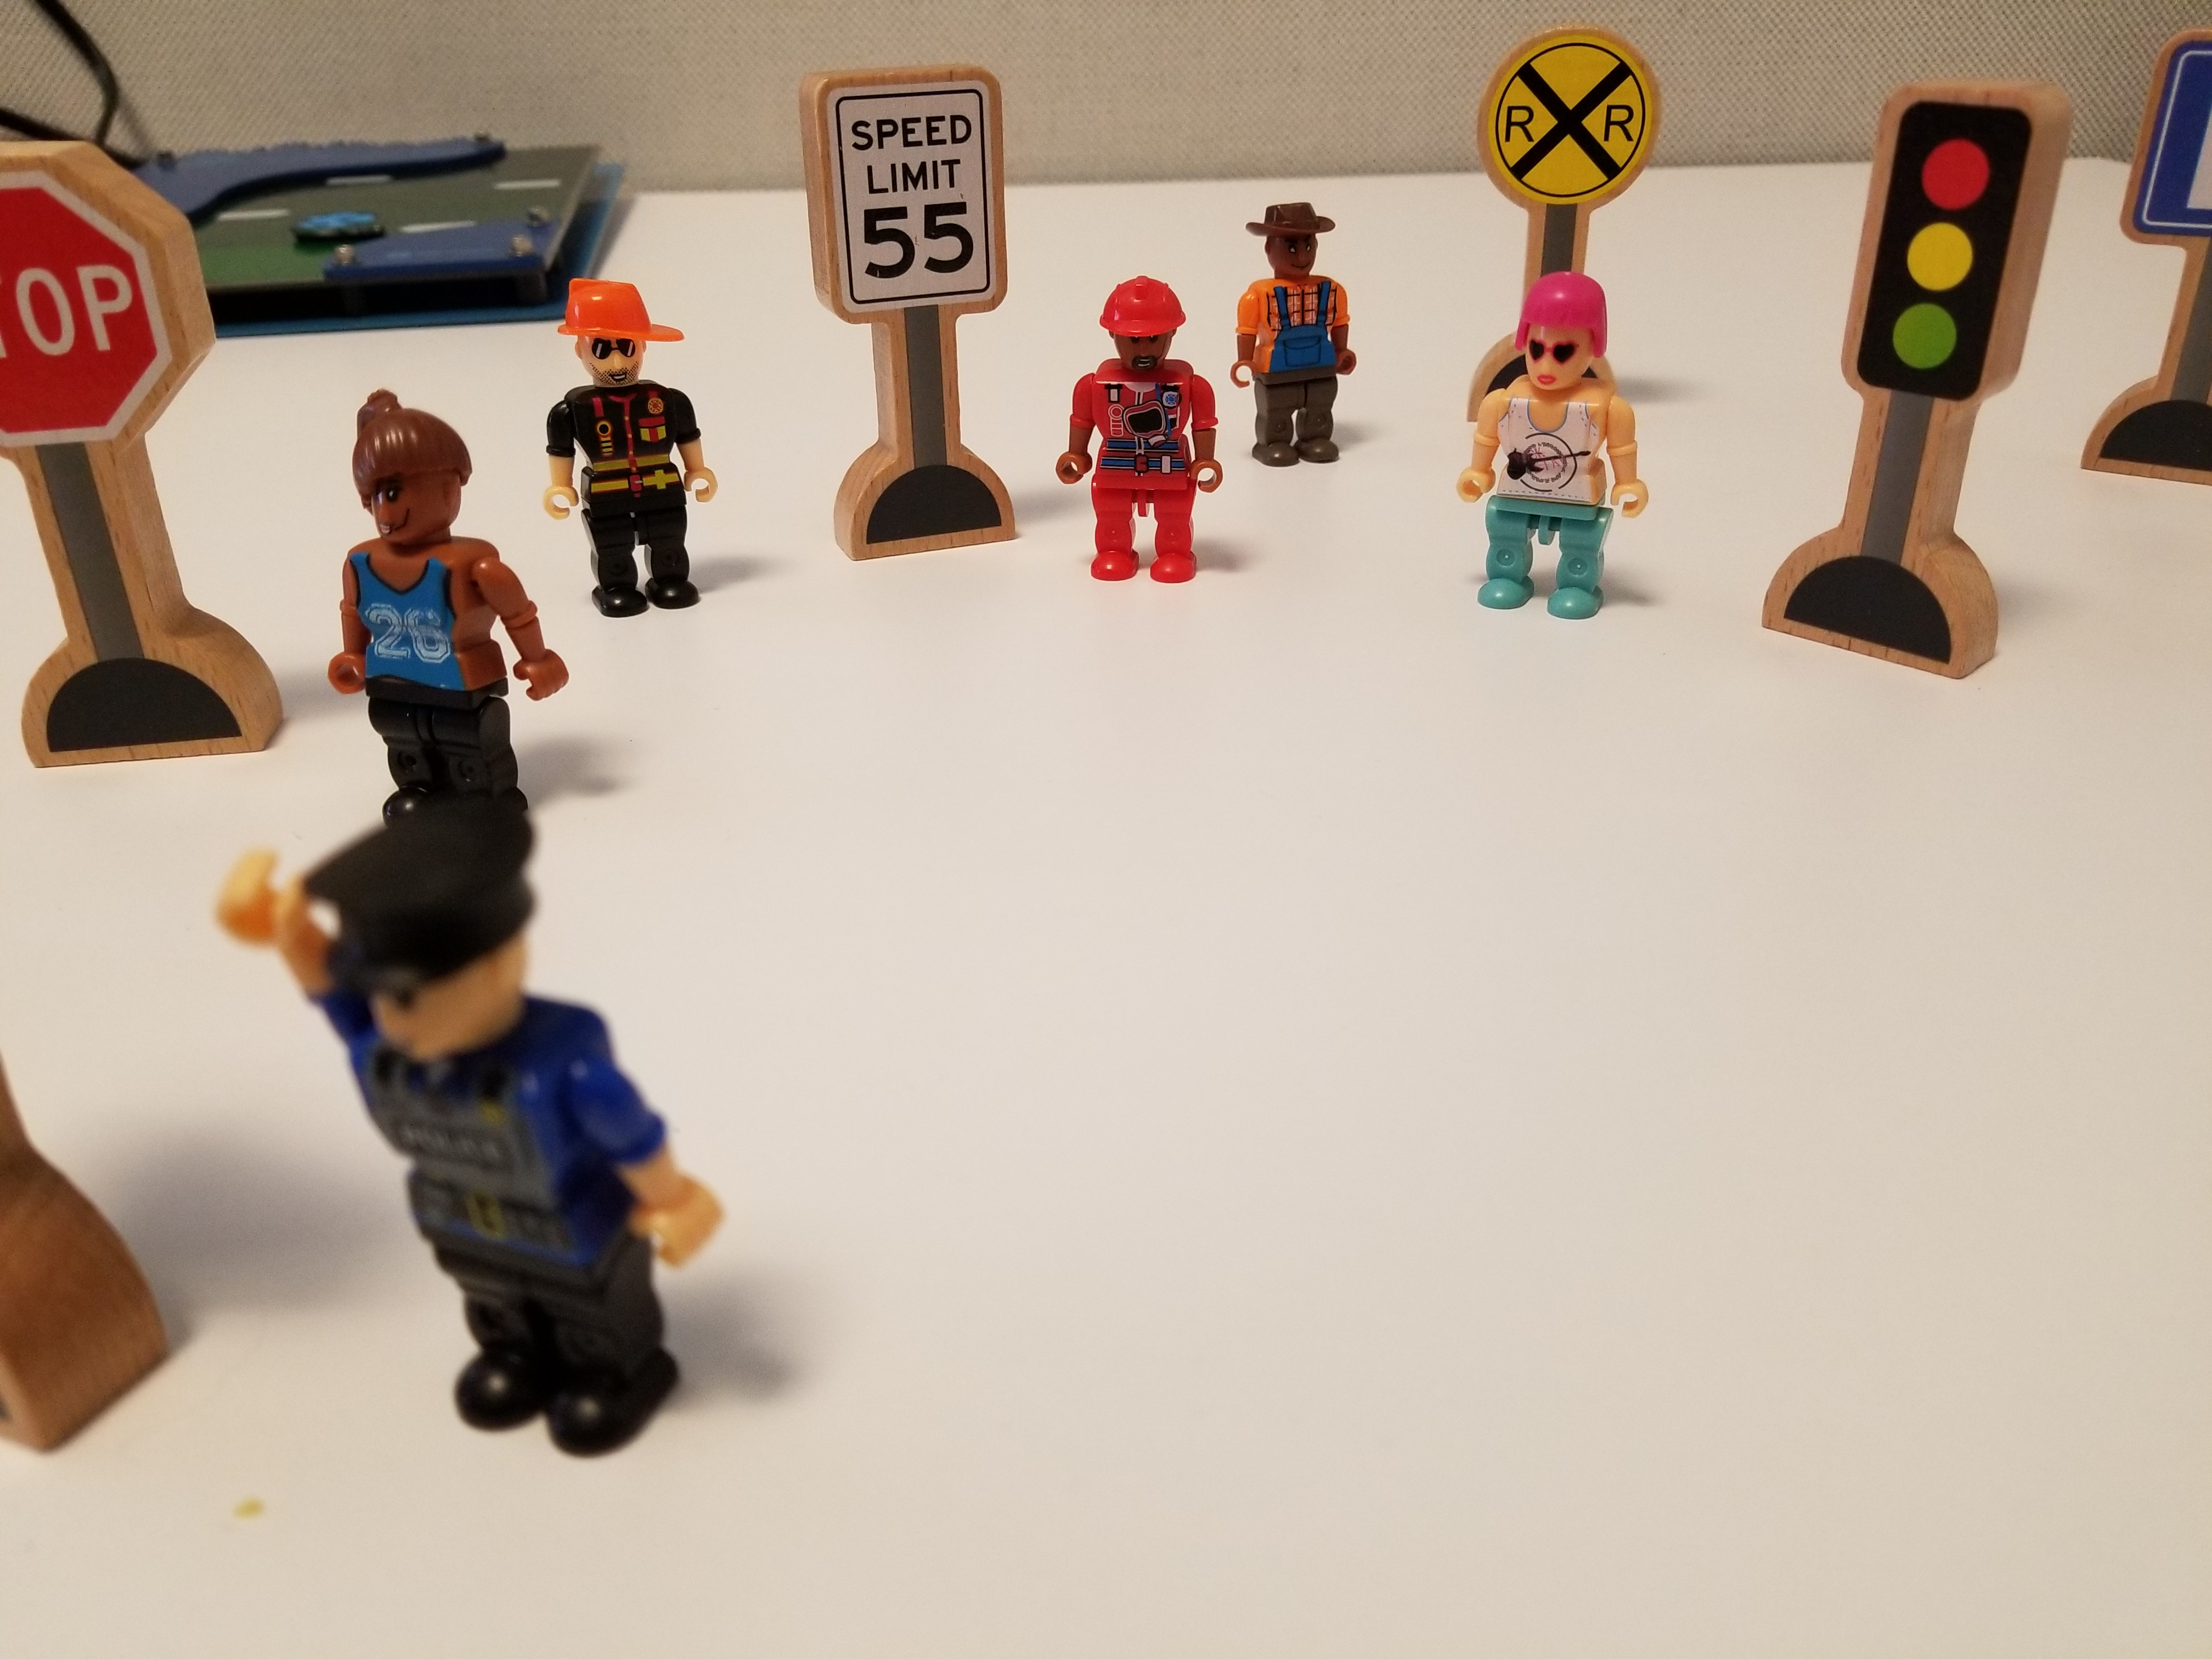Railroad Crossing: (1454, 14, 1682, 247)
Speed limit 55: (789, 43, 1048, 569)
Traffic Light: (1785, 34, 2079, 716)
person: (157, 798, 745, 1500), (300, 370, 569, 780), (521, 282, 723, 618), (1447, 275, 1645, 613), (1059, 247, 1241, 594), (1232, 172, 1377, 484)
